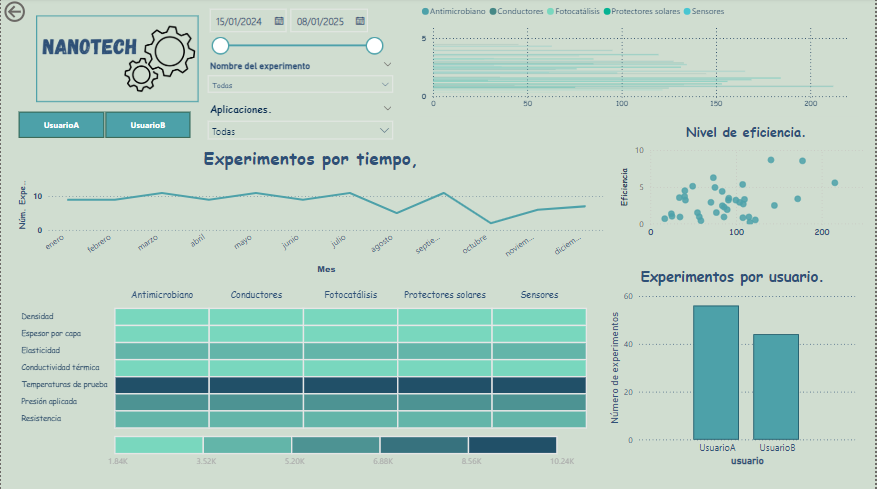

What the dashboard file says about the page in this screenshot:
{"tool":"powerbi","page":{"name":"Página 1","canvas":[1280,720],"ordinal":0},"visuals":[{"type":"slicer","fields":{"Values":["Datos_Finales_Silver.usuario"]},"box":[0,159.8,301.1,52.2],"z":0},{"type":"columnChart","title":"Experimentos por usuario.","fields":{"Y":["CountNonNull(Datos_Finales_Silver.nombre)"],"Category":["Datos_Finales_Silver.usuario"]},"box":[886,392,370,298],"z":1000},{"type":"lineChart","title":"Experimentos por tiempo,","fields":{"Category":["Datos_Finales_Silver.fecha_creacion.Variación.Jerarquía de fechas.Año","Datos_Finales_Silver.fecha_creacion.Variación.Jerarquía de fechas.Trimestre","Datos_Finales_Silver.fecha_creacion.Variación.Jerarquía de fechas.Mes","Datos_Finales_Silver.fecha_creacion.Variación.Jerarquía de fechas.Día"],"Y":["CountNonNull(Datos_Finales_Silver.nombre)"]},"box":[20,216.9,866.2,193.8],"z":2000},{"type":"slicer","fields":{"Values":["Datos_Finales_Silver.fecha_creacion"]},"box":[292.4,5.4,275,81.5],"z":3000},{"type":"slicer","fields":{"Values":["Datos_Finales_Silver.nombre"]},"box":[292.4,87,291.3,72.8],"z":4000},{"type":"image","box":[10,20,320,136.7],"z":5000},{"type":"TableHeatMap1443716069308","fields":{"Y":["Sum(DatosFinales (3).densidad)","Sum(DatosFinales (3).espesor_capa)","Sum(DatosFinales (3).elasticidad)","Sum(DatosFinales (3).conductividad_termica)","Sum(DatosFinales (3).temperatura_prueba)","Sum(DatosFinales (3).presion_aplicada)","Sum(DatosFinales (3).resistencia)"],"Category":["Datos_Finales_Silver.aplicacion"]},"box":[20,410.8,849.2,309.2],"z":6000},{"type":"actionButton","box":[0,0,100,40],"z":7000},{"type":"scatterChart","title":"Nivel de eficiencia.","fields":{"X":["Sum(DatosFinales (3).duracion_experimento)"],"Y":["Sum(Datos_Finales_Silver.eficiencia)"],"Category":["DatosFinales (3).diametro_nanoparticulas"]},"box":[902.2,182.6,378.3,177.2],"z":8000},{"type":"clusteredBarChart","fields":{"Y":["Sum(DatosFinales (3).duracion_experimento)"],"Category":["DatosFinales (3).espesor_capa","DatosFinales (3).resistencia","DatosFinales (3).elasticidad","DatosFinales (3).densidad","DatosFinales (3).conductividad_termica"],"Series":["Datos_Finales_Silver.aplicacion"]},"box":[610.9,0,644.6,172.8],"z":9000},{"type":"slicer","fields":{"Values":["Datos_Finales_Silver.aplicacion"]},"box":[292.4,147.8,291.3,68.5],"z":10000}]}

Visuals, with their boxes in screenshot pixels (x1, y1, x2, y2), scaled from the page's 1280x720 canvas onto the 877x489 screenshot:
slicer - Datos_Finales_Silver.usuario: [x1=0, y1=109, x2=206, y2=144]
"Experimentos por usuario." columnChart: [x1=607, y1=266, x2=861, y2=469]
"Experimentos por tiempo," lineChart: [x1=14, y1=147, x2=607, y2=279]
slicer - Datos_Finales_Silver.fecha_creacion: [x1=200, y1=4, x2=389, y2=59]
slicer - Datos_Finales_Silver.nombre: [x1=200, y1=59, x2=400, y2=109]
image: [x1=7, y1=14, x2=226, y2=106]
TableHeatMap1443716069308 - Sum(DatosFinales (3).densidad) x Sum(DatosFinales (3).espesor_capa): [x1=14, y1=279, x2=596, y2=488]
actionButton: [x1=0, y1=0, x2=69, y2=27]
"Nivel de eficiencia." scatterChart: [x1=618, y1=124, x2=876, y2=244]
clusteredBarChart - Sum(DatosFinales (3).duracion_experimento) x DatosFinales (3).espesor_capa: [x1=419, y1=0, x2=860, y2=117]
slicer - Datos_Finales_Silver.aplicacion: [x1=200, y1=100, x2=400, y2=147]
